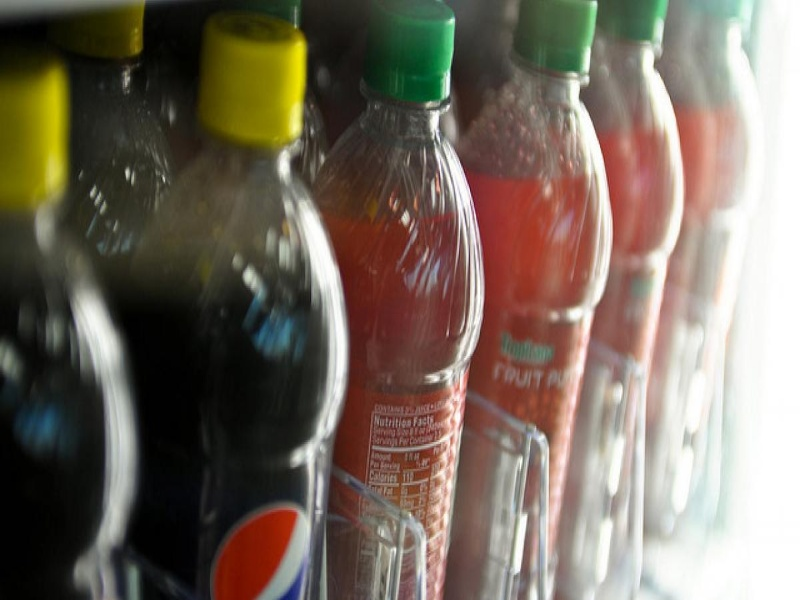Plastic bottle: (119, 9, 364, 600), (290, 7, 466, 590), (459, 6, 617, 600)
